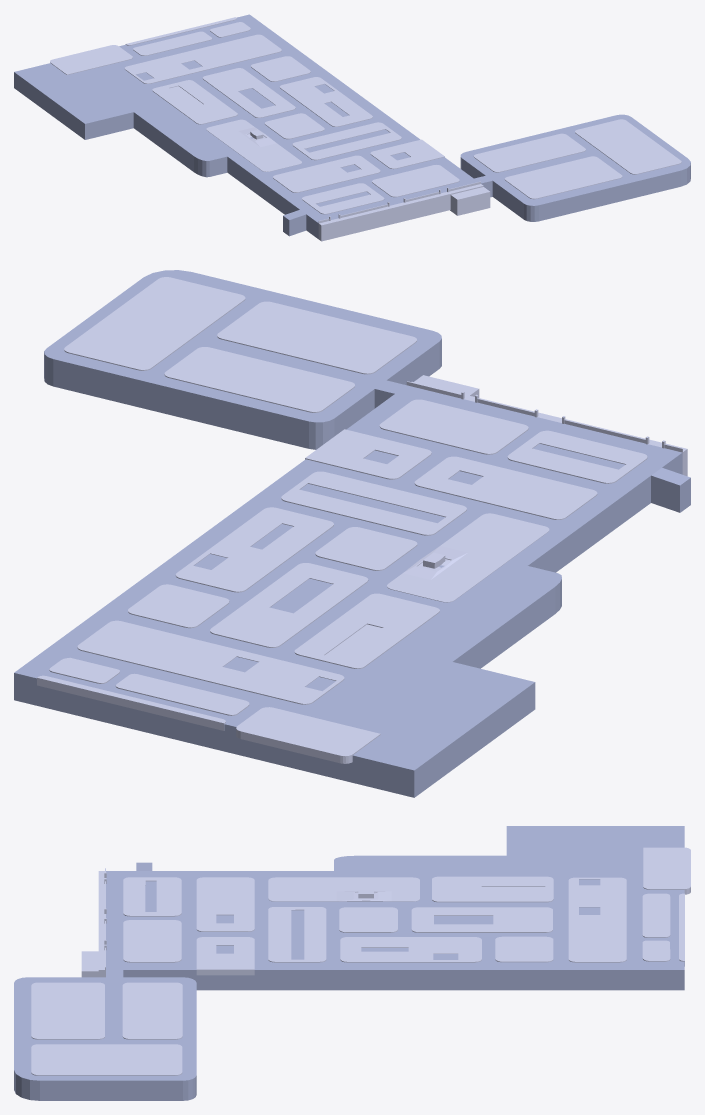
The model's file is RoadAndFloors.glb.
The picture shows the model from 3 angles, top to bottom: view 1: azimuth 30°, elevation 25°; view 2: azimuth 150°, elevation 25°; view 3: azimuth 270°, elevation 25°; orthographic projection. The views are drawn at different scales.
Parts seen in each view (by area): view 1: Road, Road.001, Floor.002, Floor.014, Floor.013, Floor.007, Floor.015, Floor.005, Floor.010, Floor.003, Floor.004, Floor.016 (+7 smaller); view 2: Road, Floor.002, Floor.014, Floor.013, Floor.007, Floor.015, Floor.005, Floor.012, Floor.010, Floor.003, Floor.004, Floor.016 (+7 smaller); view 3: Road, Floor.014, Floor.002, Floor.013, Floor.007, Floor.015, Floor.005, Floor.004, Floor.003, Floor.010, Floor.016, Floor (+7 smaller).
Boxes of the visible parts, left/top/right/bottom form: Road: left=14, top=14, right=690, bottom=238; Road.001: left=318, top=181, right=490, bottom=241; Floor.002: left=124, top=34, right=281, bottom=83; Floor.014: left=575, top=119, right=681, bottom=174; Floor.013: left=504, top=156, right=622, bottom=199; Floor.007: left=206, top=119, right=301, bottom=171; Floor.015: left=473, top=133, right=585, bottom=172; Floor.005: left=280, top=77, right=372, bottom=126; Floor.010: left=273, top=155, right=380, bottom=192; Floor.003: left=202, top=68, right=295, bottom=117; Floor.004: left=152, top=80, right=237, bottom=124; Floor.016: left=292, top=122, right=401, bottom=160; Road: left=14, top=270, right=690, bottom=797; Floor.002: left=77, top=620, right=344, bottom=704; Floor.014: left=64, top=277, right=245, bottom=370; Floor.013: left=217, top=301, right=416, bottom=374; Floor.007: left=387, top=513, right=549, bottom=602; Floor.015: left=164, top=347, right=354, bottom=412; Floor.005: left=175, top=507, right=333, bottom=592; Floor.012: left=37, top=657, right=249, bottom=730; Floor.010: left=414, top=456, right=597, bottom=519; Floor.003: left=210, top=563, right=368, bottom=647; Floor.004: left=294, top=593, right=439, bottom=668; Floor.016: left=281, top=471, right=466, bottom=535; Road: left=14, top=826, right=684, bottom=1100; Floor.014: left=31, top=1044, right=182, bottom=1075; Floor.002: left=568, top=877, right=626, bottom=962; Floor.013: left=31, top=982, right=104, bottom=1039; Floor.007: left=268, top=877, right=419, bottom=901; Floor.015: left=122, top=982, right=182, bottom=1039; Floor.005: left=340, top=937, right=481, bottom=962; Floor.004: left=432, top=876, right=553, bottom=902; Floor.003: left=411, top=907, right=552, bottom=932; Floor.010: left=196, top=877, right=254, bottom=931; Floor.016: left=268, top=907, right=326, bottom=962; Floor: left=123, top=920, right=181, bottom=962.
Size of the model in its own units: 133 by 6.61 by 149.
